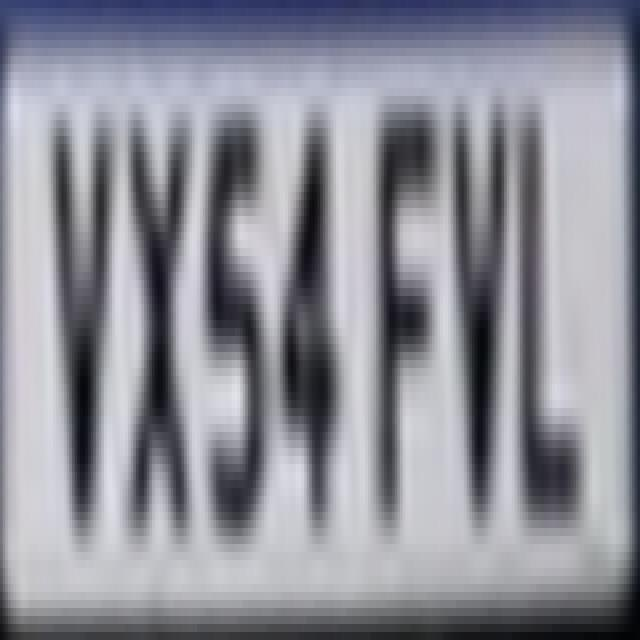licenseplate: (2, 25, 634, 617)
